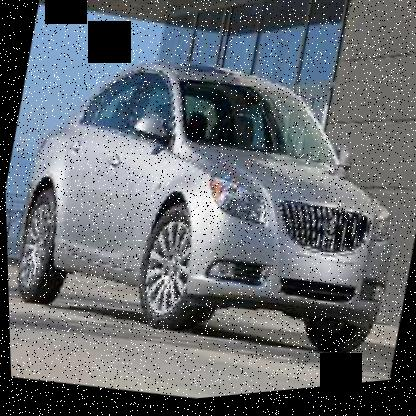not_emergency: (0, 9, 415, 405)
